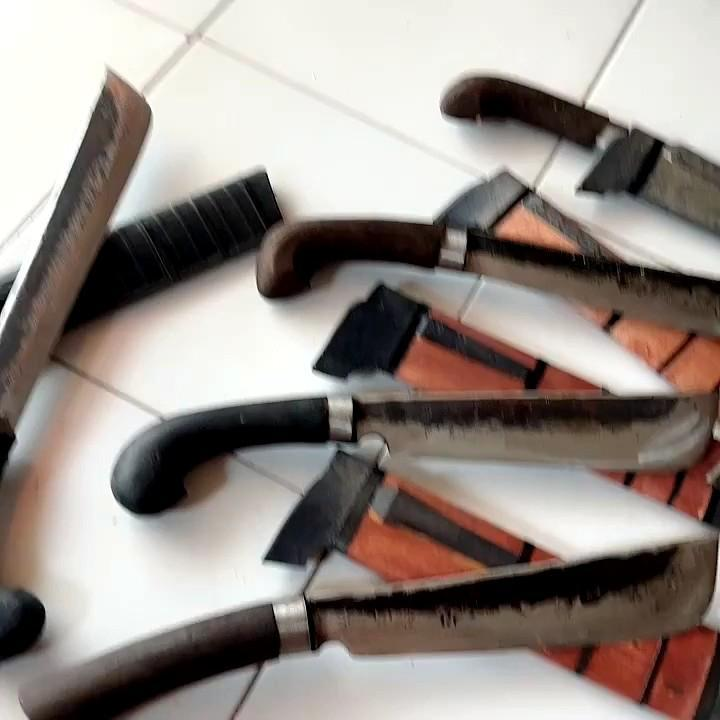facao: (20, 537, 717, 719), (113, 391, 716, 490), (257, 218, 719, 338)
